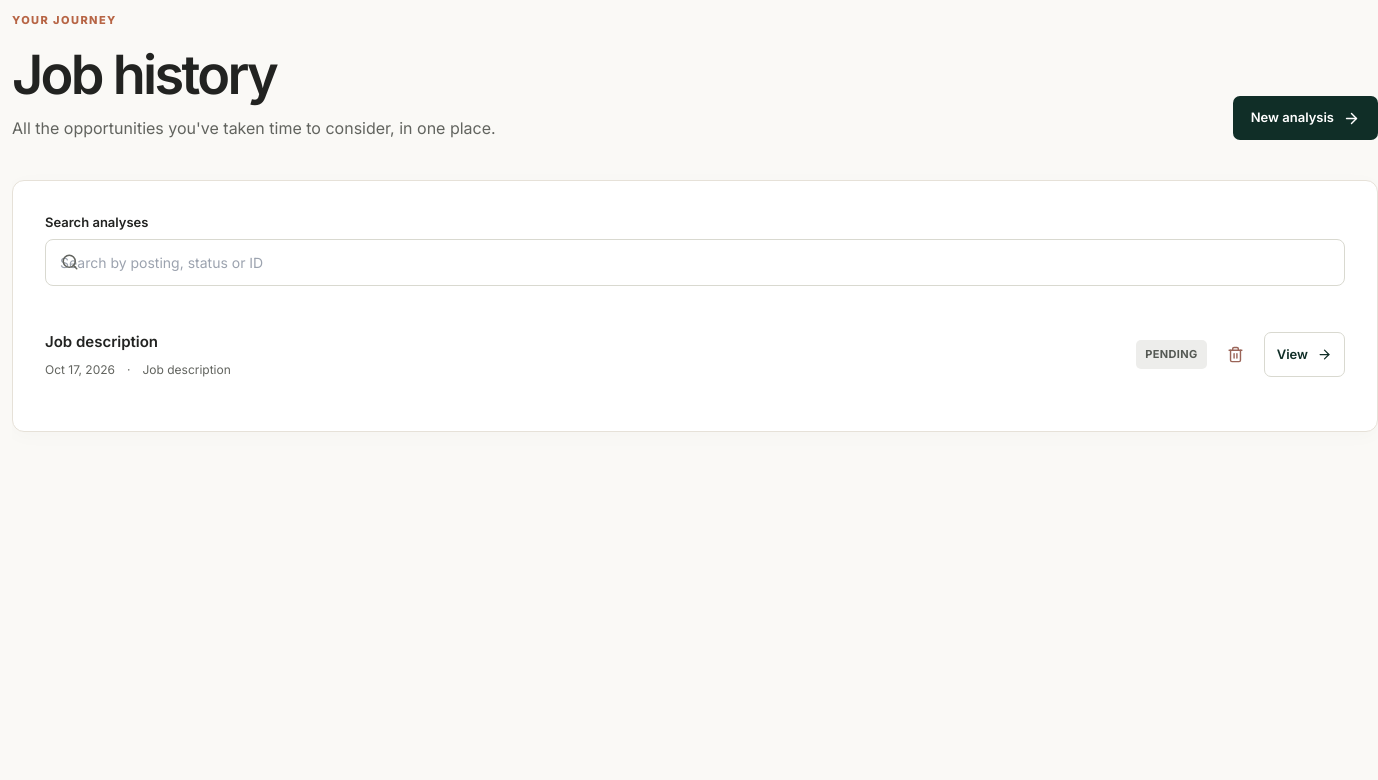
Test: job history interactions through the job hook › displays deletion failures and refreshes history after a successful retry
Expected: the heading "Job description" is shown, [45,332,158,351]
Click the button named "Delete submission".
click(1235, 355)  # box [1219,338,1252,371]
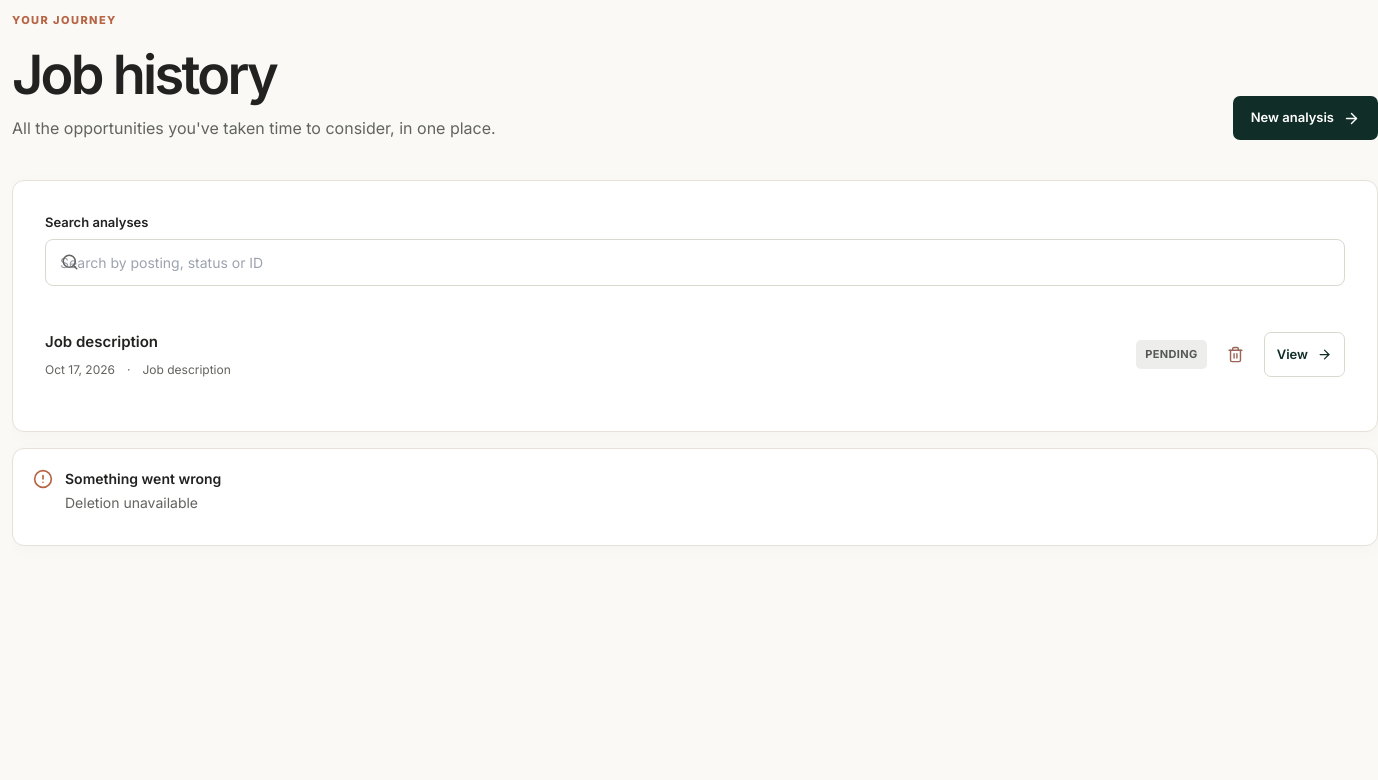
Expected: the text "Deletion unavailable" is shown, [65,493,221,513]
Click the button named "Delete submission".
click(1235, 355)  # box [1219,338,1252,371]
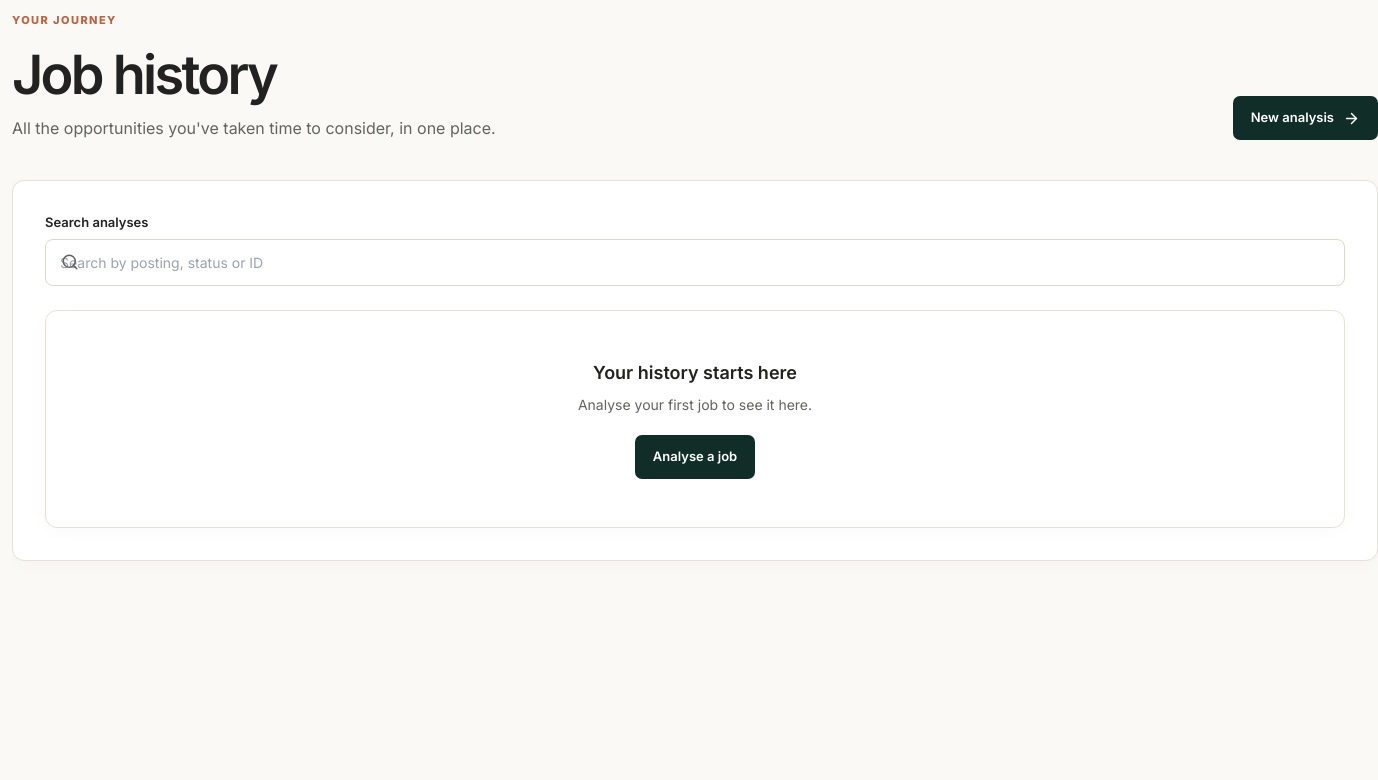
Expected: the text "Your history starts here" is shown, [593,362,797,383]
